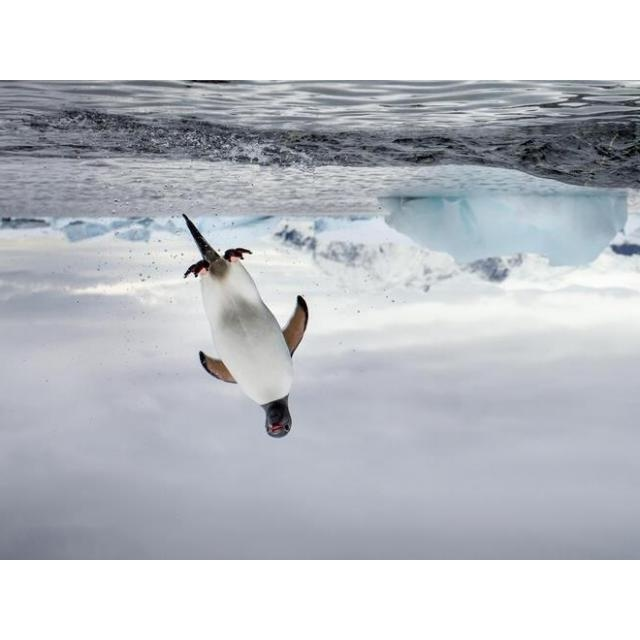penguin: (179, 212, 308, 439)
